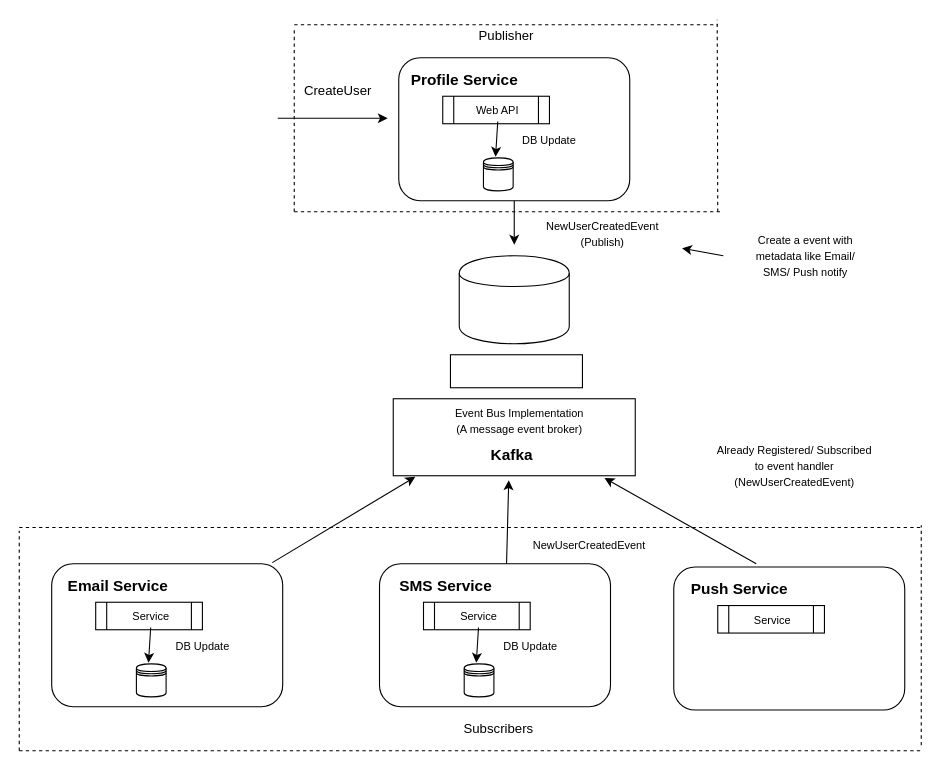
This 942x771 diagram has some shape labels left out. The shapes that lost their labels are listed below. From the top down, each one's box as (x1, y1, x2, y2) in pixels, then its label:
(458, 255, 569, 344): Event Bus (Pub/ Sub channel)
(449, 354, 582, 388): Event Bus Interfacing
